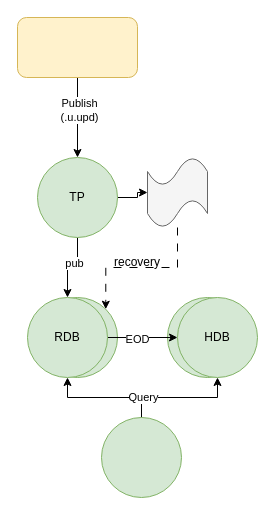
Image size: 275x515. Some labels were removed from this diagram. The centre of each missing label's shape, as x and y in pixels:
(sample) q Feedhandler: (x=77, y=47)
GW: (x=141, y=457)
TP Log: (x=177, y=192)
